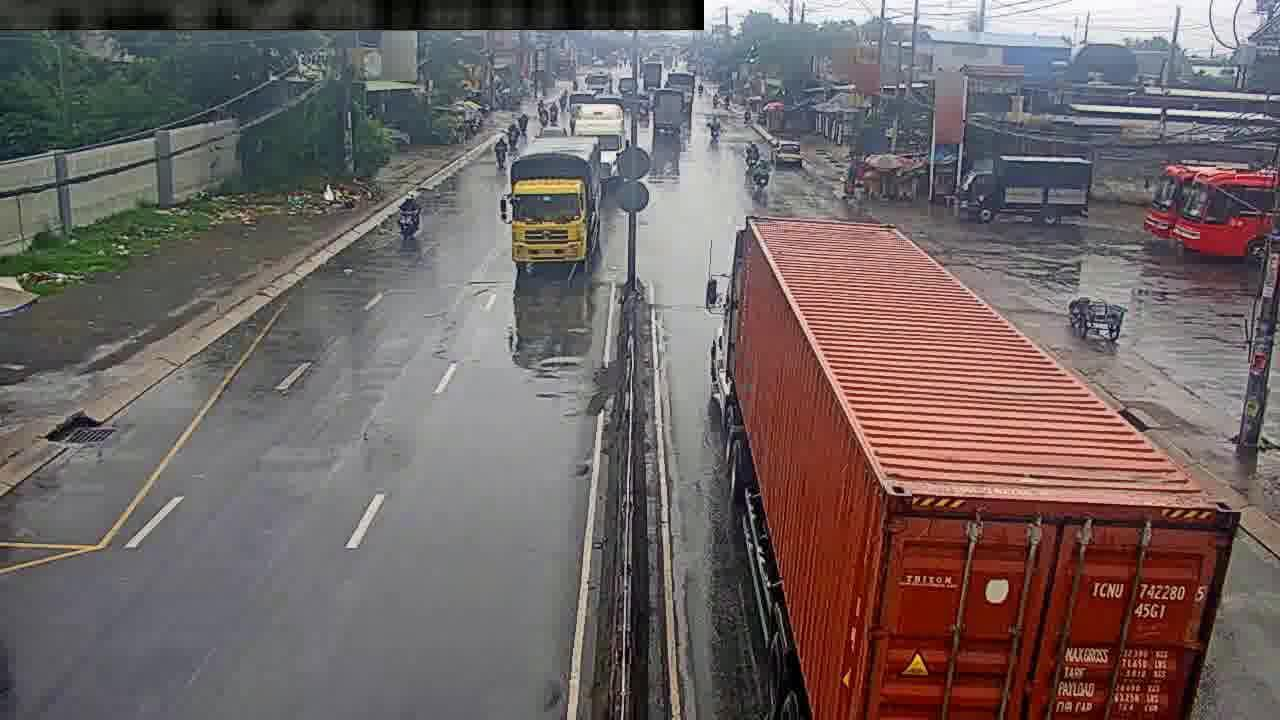container: (713, 217, 1235, 720), (509, 142, 601, 271), (574, 99, 624, 177)
motorbike: (394, 186, 421, 245), (757, 157, 771, 195), (495, 131, 509, 165)
